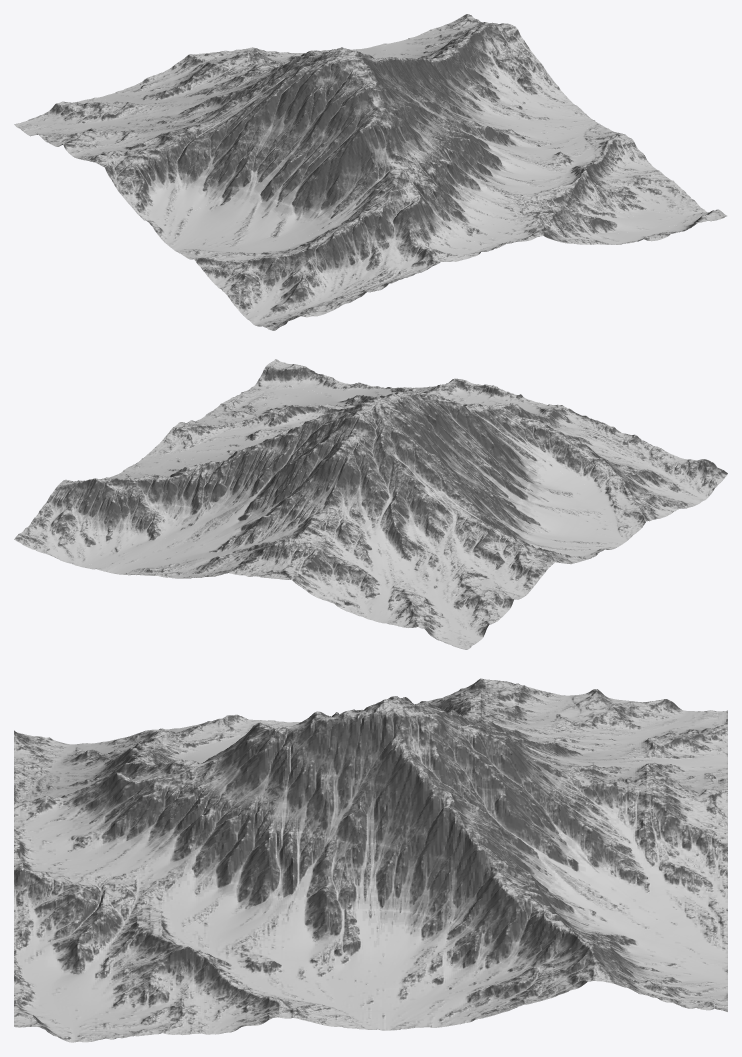
The picture shows the model from 3 angles, top to bottom: view 1: azimuth 30°, elevation 25°; view 2: azimuth 150°, elevation 25°; view 3: azimuth 270°, elevation 25°; orthographic projection. The views are drawn at different scales.
Parts seen in each view (by area): view 1: Object_5, Object_3, Object_6, Object_2, Object_4, Object_7, Object_9, Object_8; view 2: Object_8, Object_7, Object_9, Object_4, Object_2, Object_6, Object_3, Object_5; view 3: Object_6, Object_7, Object_2, Object_3, Object_5, Object_4, Object_8, Object_9.
Boxes of the visible parts, box(x1,y1,x2,y2) form: Object_5: box(149, 67, 699, 326); Object_3: box(177, 107, 662, 278); Object_6: box(115, 47, 600, 223); Object_2: box(14, 14, 629, 251); Object_4: box(209, 167, 726, 330); Object_7: box(82, 50, 568, 186); Object_9: box(19, 15, 500, 143); Object_8: box(50, 23, 534, 159); Object_8: box(50, 474, 534, 616); Object_7: box(88, 428, 564, 585); Object_9: box(20, 496, 501, 647); Object_4: box(211, 359, 727, 517); Object_2: box(14, 392, 628, 649); Object_6: box(117, 396, 599, 564); Object_3: box(178, 393, 661, 538); Object_5: box(149, 374, 712, 553); Object_6: box(360, 694, 450, 1030); Object_7: box(449, 678, 541, 1025); Object_2: box(281, 709, 727, 1028); Object_3: box(192, 714, 282, 1034); Object_5: box(51, 709, 361, 1040); Object_4: box(14, 725, 193, 1042); Object_8: box(540, 689, 630, 1001); Object_9: box(629, 699, 715, 1010).
Size of the model in its own units: 1000 by 279 by 1000.
Materials: 1 (1 with a texture image).
